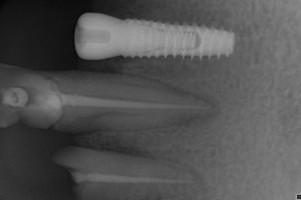Furcation Involvement: (180, 89, 221, 125), (184, 163, 216, 200)
